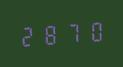eight: (39, 21, 59, 47)
seven: (60, 20, 80, 45)
two: (18, 23, 38, 48)
zero: (81, 18, 101, 44)
